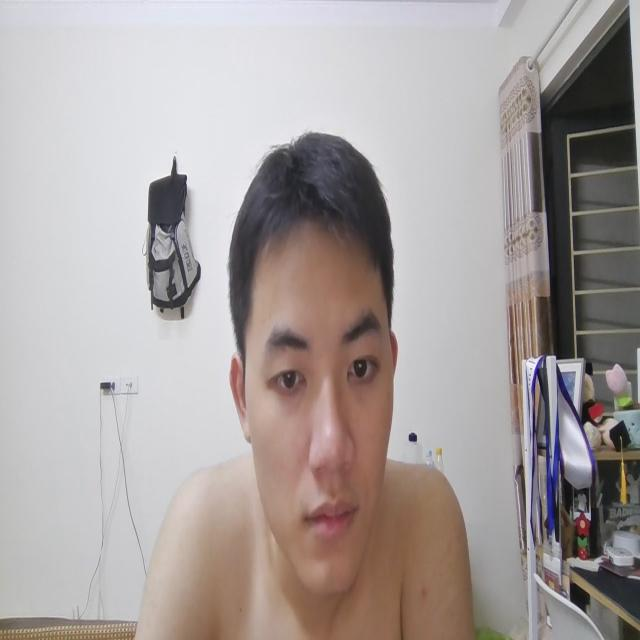student: (138, 126, 474, 640)
